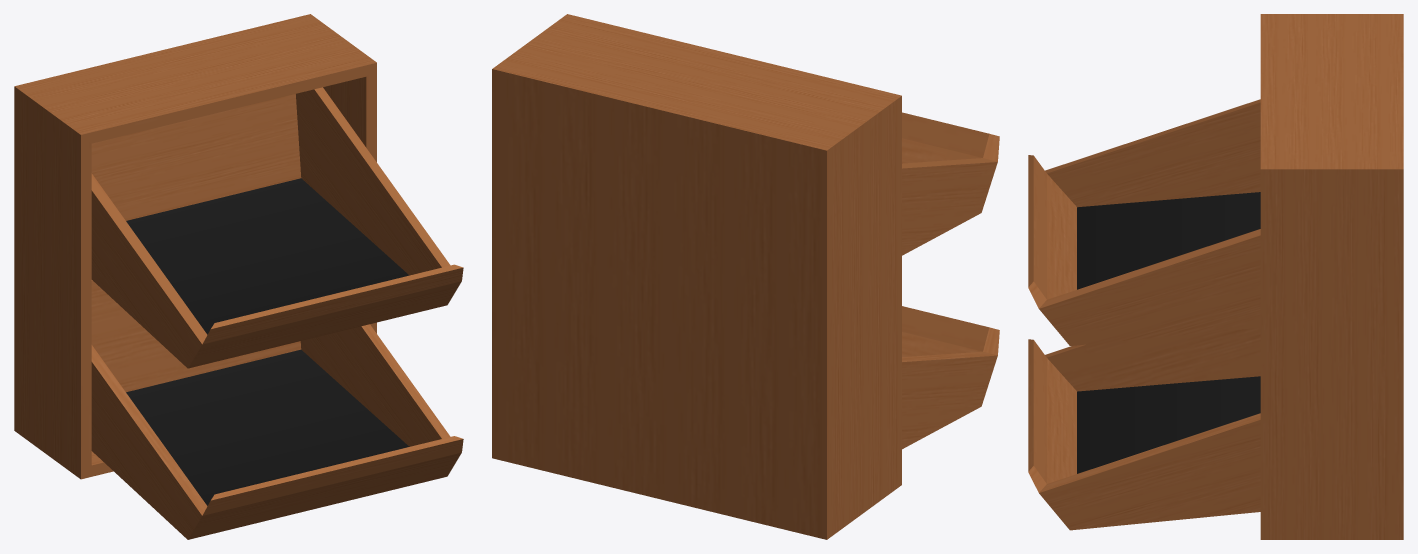
Rendered from Display_Small_A.FBX.
The picture shows the model from 3 angles, left to right: view 1: azimuth 30°, elevation 25°; view 2: azimuth 150°, elevation 25°; view 3: azimuth 270°, elevation 25°; orthographic projection. The views are drawn at different scales.
Visible parts, largest first — view 1: Counter_Display_Small; view 2: Counter_Display_Small; view 3: Counter_Display_Small.
Boxes of the visible parts, bbox=[...] form: Counter_Display_Small: bbox=[14, 14, 463, 539]; Counter_Display_Small: bbox=[492, 14, 999, 539]; Counter_Display_Small: bbox=[1028, 14, 1403, 539].
Bounding box in the file's own units: 90 × 100 × 91.88.
